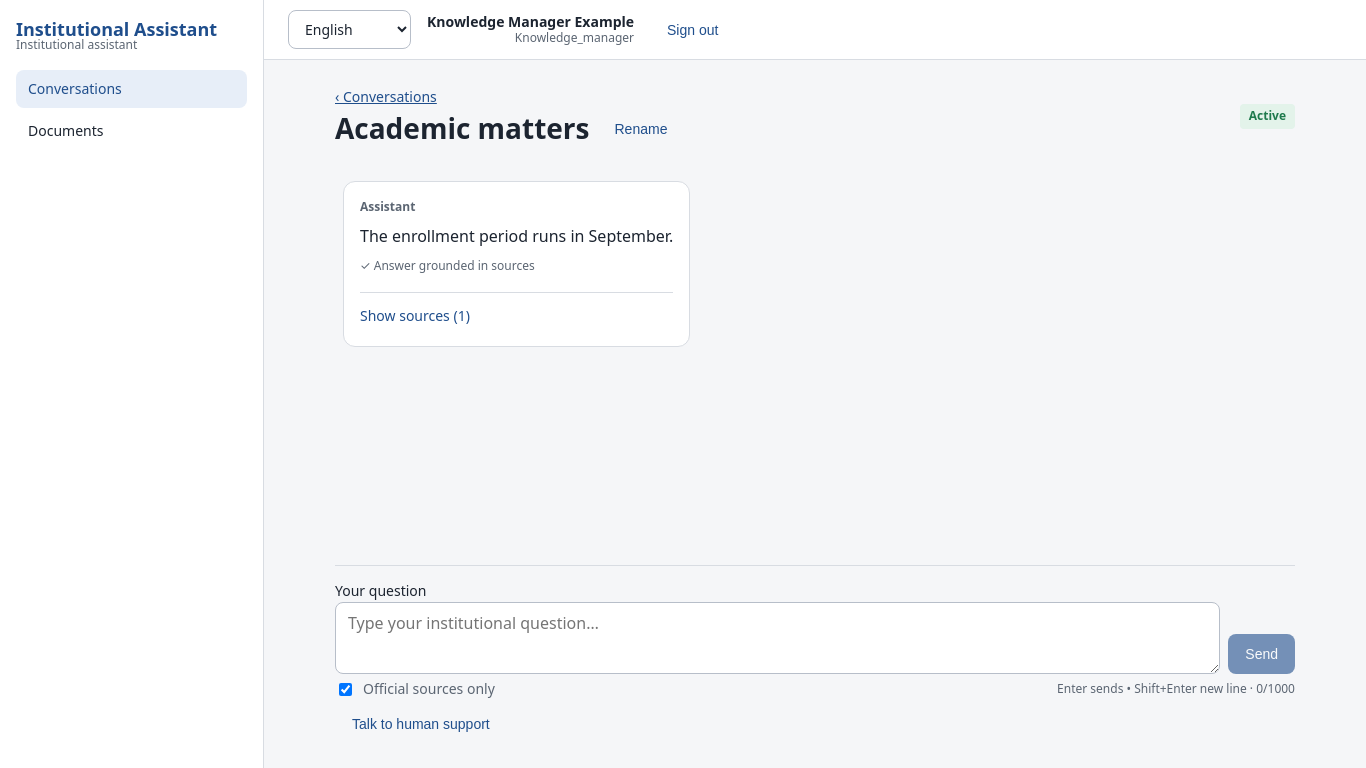
Test: answer sources › escapes malicious source titles as text
Click the button "Show sources (1)" at (415, 316), box [360,301,470,330]
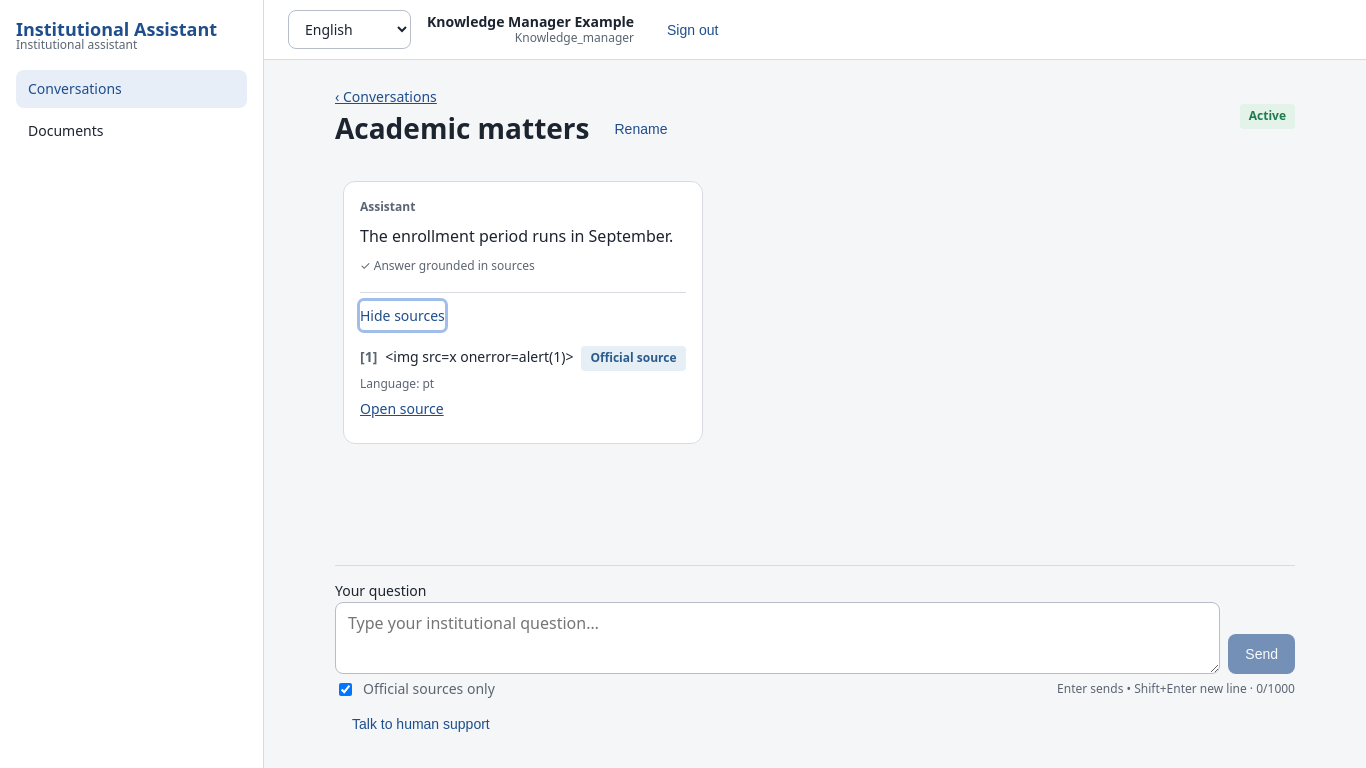
Result: the text "<img src=x onerror=alert(1)>" is shown at [385,346,573,368]
